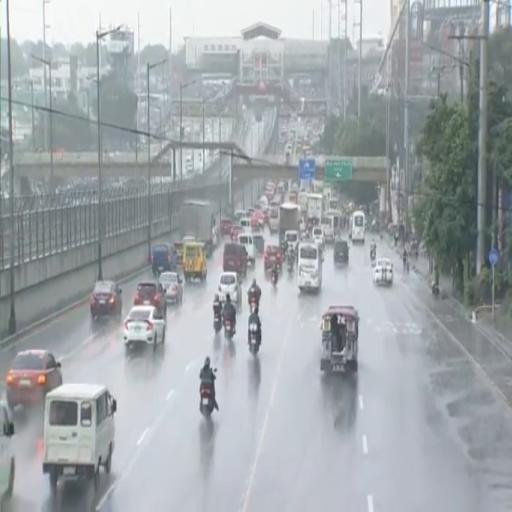car: (6, 350, 62, 409), (124, 306, 166, 348), (0, 403, 15, 509), (90, 281, 122, 321), (134, 282, 166, 315), (218, 272, 241, 303), (159, 271, 182, 302), (373, 257, 393, 286), (264, 246, 282, 271), (312, 227, 324, 248), (252, 210, 264, 228), (221, 218, 233, 236), (231, 226, 243, 242)
motorcycle: (200, 386, 214, 418), (200, 388, 214, 418), (249, 324, 259, 355), (225, 319, 234, 340), (249, 294, 257, 313), (214, 313, 221, 334), (288, 254, 294, 273), (271, 270, 278, 286), (432, 284, 439, 298), (403, 257, 409, 273), (370, 251, 375, 266)
tricycle: (321, 307, 359, 373)
truck: (179, 200, 217, 257), (279, 202, 300, 246), (306, 193, 324, 225), (298, 191, 307, 216)
